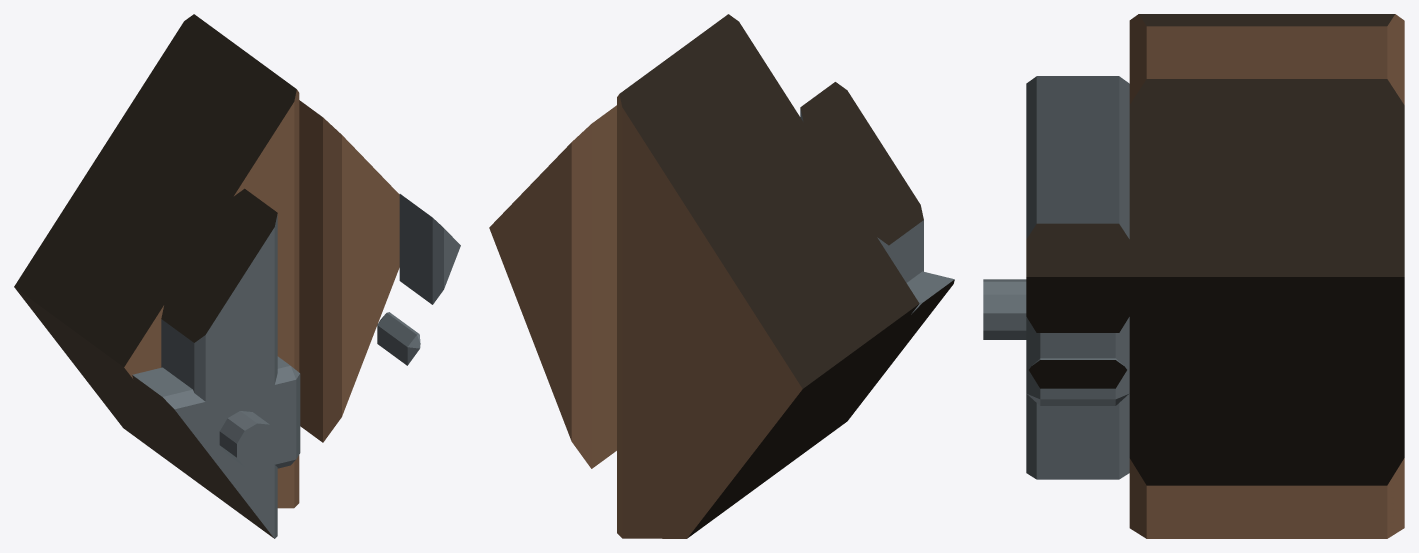
Rendered from SM_DoorShard_02_22.fbx.
3 renders of one model, left to right at view 1: azimuth 30°, elevation 25°; view 2: azimuth 150°, elevation 25°; view 3: azimuth 270°, elevation 25°, orthographic. The views are drawn at different scales.
Visible parts, largest first — view 1: SM_DoorShard_02_22; view 2: SM_DoorShard_02_22; view 3: SM_DoorShard_02_22.
Boxes of the visible parts, box(x1,y1,x2,y2) form: SM_DoorShard_02_22: box(14, 14, 460, 538); SM_DoorShard_02_22: box(489, 14, 954, 538); SM_DoorShard_02_22: box(983, 14, 1404, 538).
Size of the model in its own units: 24.8 by 24.5 by 33.49.
